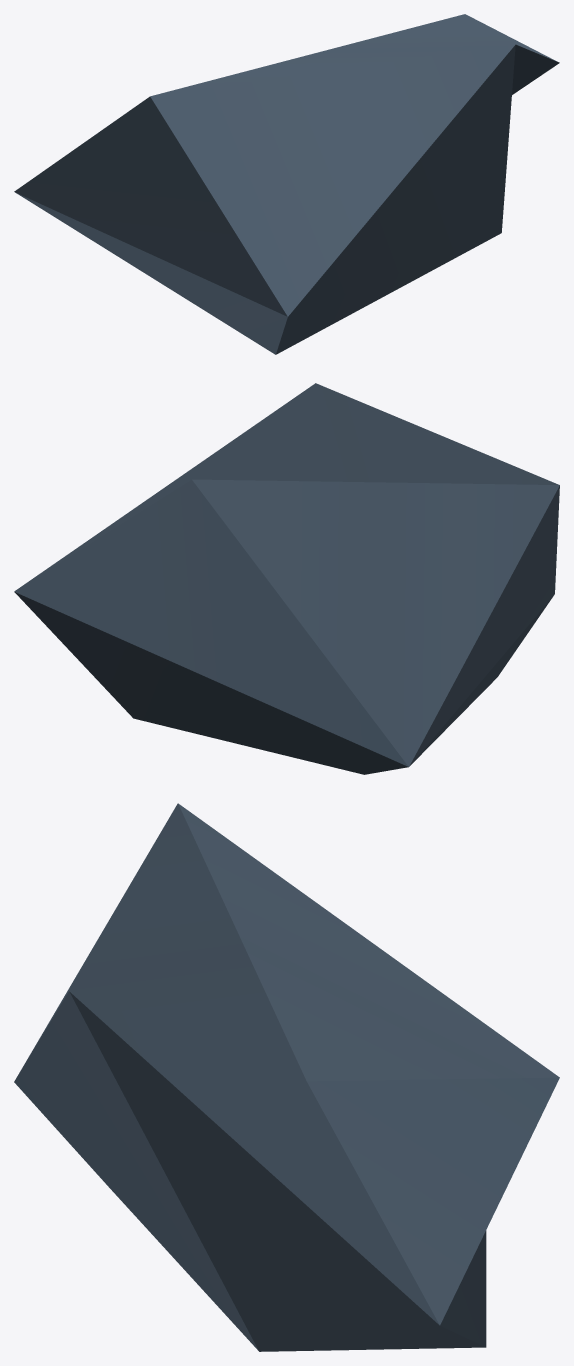
Rendered from rock2.fbx.
The picture shows the model from 3 angles, top to bottom: view 1: azimuth 30°, elevation 25°; view 2: azimuth 150°, elevation 25°; view 3: azimuth 270°, elevation 25°; orthographic projection. The views are drawn at different scales.
Parts seen in each view (by area): view 1: Cube; view 2: Cube; view 3: Cube.
Part boxes in pixels (x1=…): Cube: x1=14, y1=14, x2=559, y2=354; Cube: x1=14, y1=383, x2=559, y2=774; Cube: x1=14, y1=803, x2=559, y2=1351.
Size of the model in its own units: 393 by 195 by 290.
